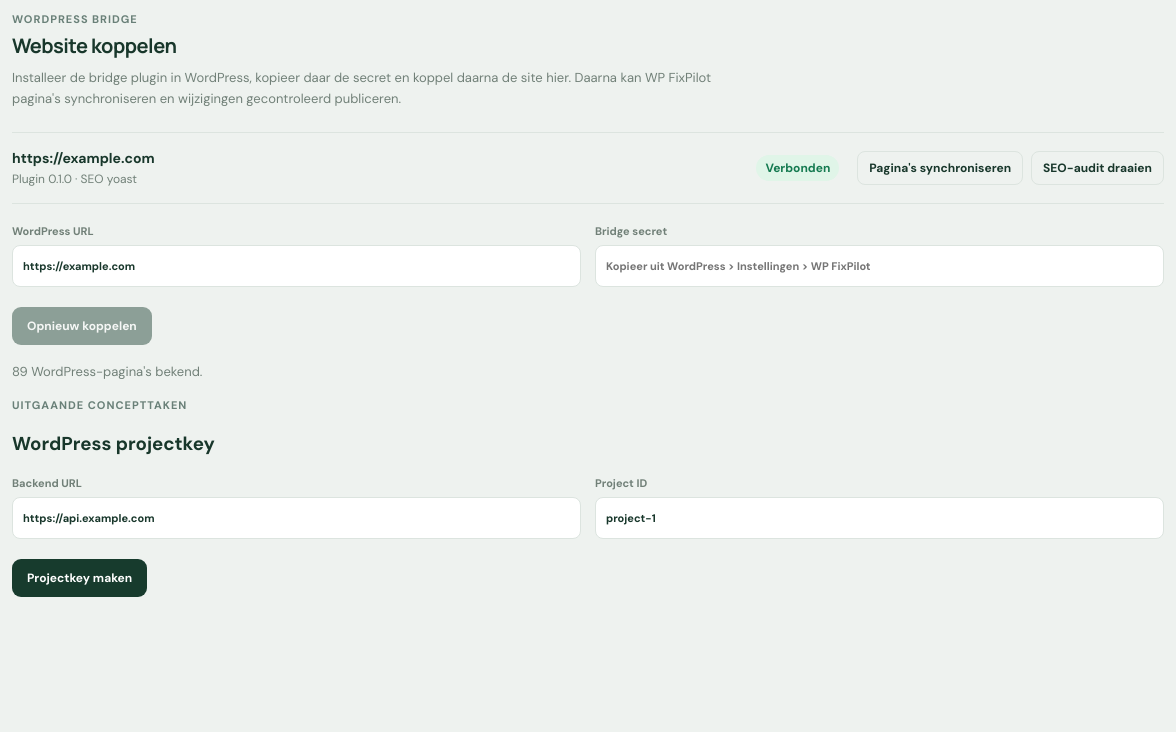
Scenario: WordPressBridgePanel › runs a WordPress audit after a connection exists
The image size is (1176, 732).
Click the button "SEO-audit draaien": (1098, 168) [1031,151,1164,185]
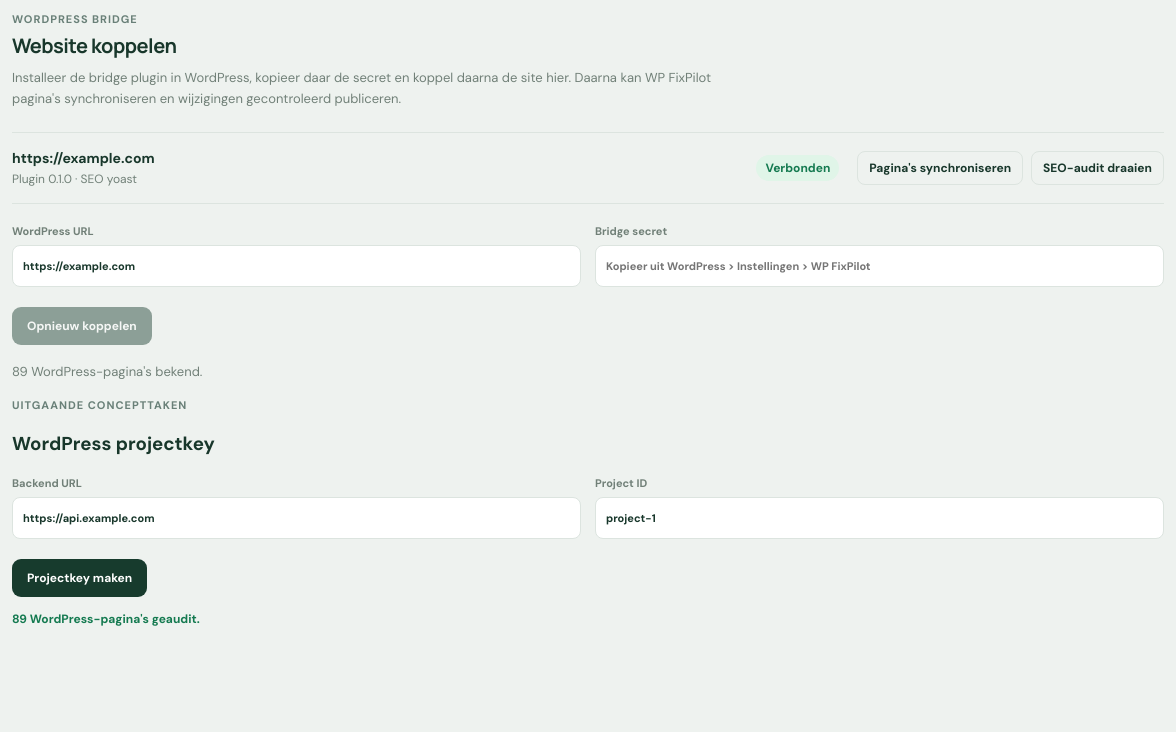
Check: the text "89 WordPress-pagina's geaudit." is shown, box [12,611,200,627]
